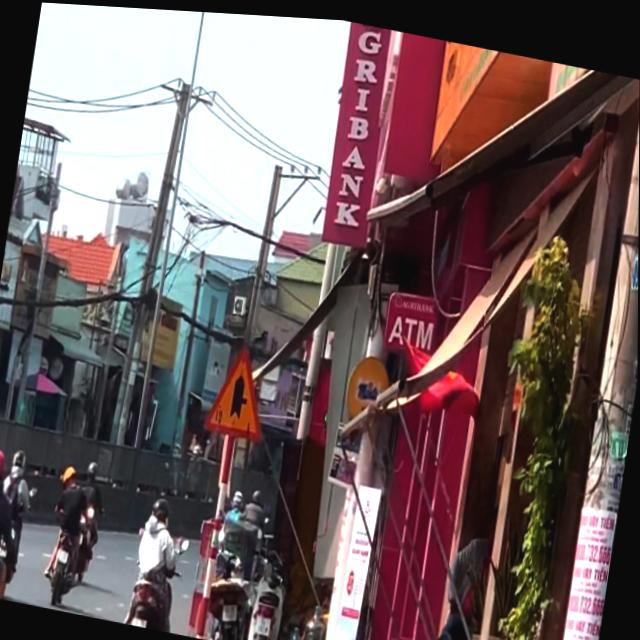Giao nhau voi duong khong uu tien ben phai: (200, 332, 279, 441)
